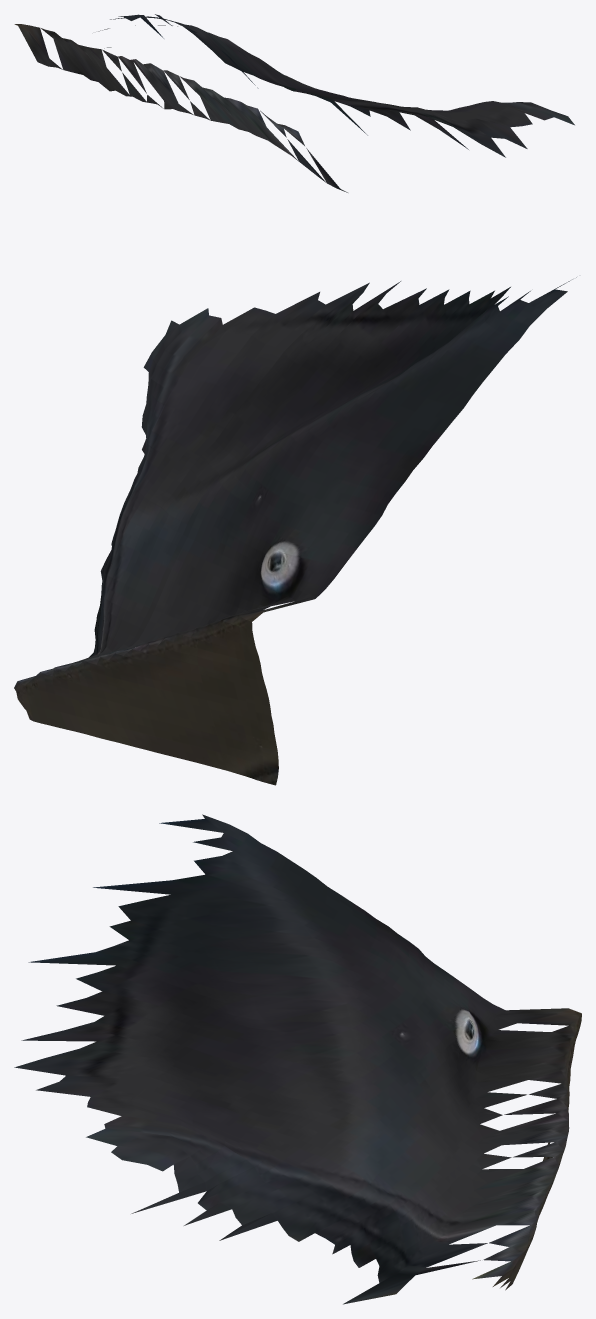
File: observed-surface.glb
3 views of the same model, one above another, from view 1: azimuth 30°, elevation 25°; view 2: azimuth 150°, elevation 25°; view 3: azimuth 270°, elevation 25° (orthographic). The views are drawn at different scales.
Visible parts, largest first — view 1: geometry_0; view 2: geometry_0; view 3: geometry_0.
Boxes of the visible parts, box(x1,y1,x2,y2) form: geometry_0: box(14, 14, 574, 192); geometry_0: box(14, 277, 576, 785); geometry_0: box(14, 814, 581, 1304).
Bounding box in the file's own units: 0.5809 × 0.4899 × 0.7472.
1 material, 1 textured.
